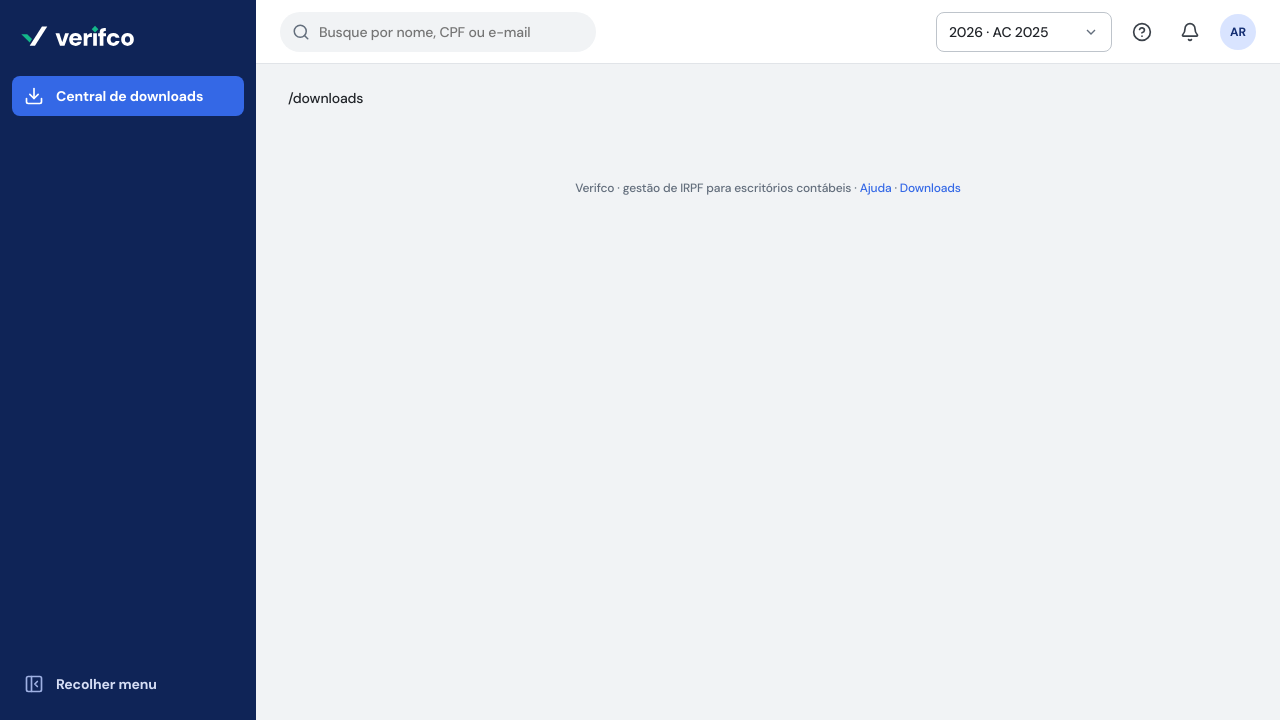
sino de notificações › erro ao carregar não vira "Nenhuma notificação": explica e deixa tentar de novo
The width and height of the screenshot is (1280, 720).
Click the button named "Notificações" at (1190, 32), box [1172,14,1208,50]
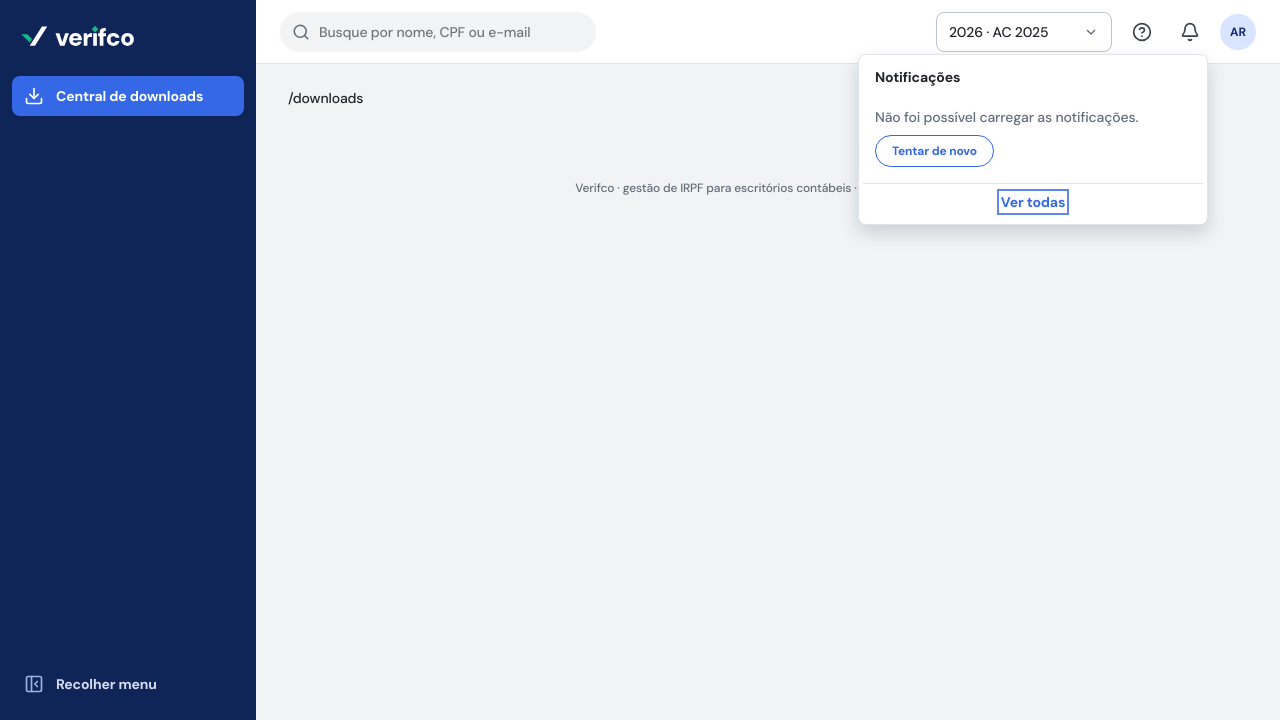
Now the text "Não foi possível carregar as notificações." is shown, box [875,108,1138,126]
Click the button "Tentar de novo" at (934, 150), box [875,134,994,166]
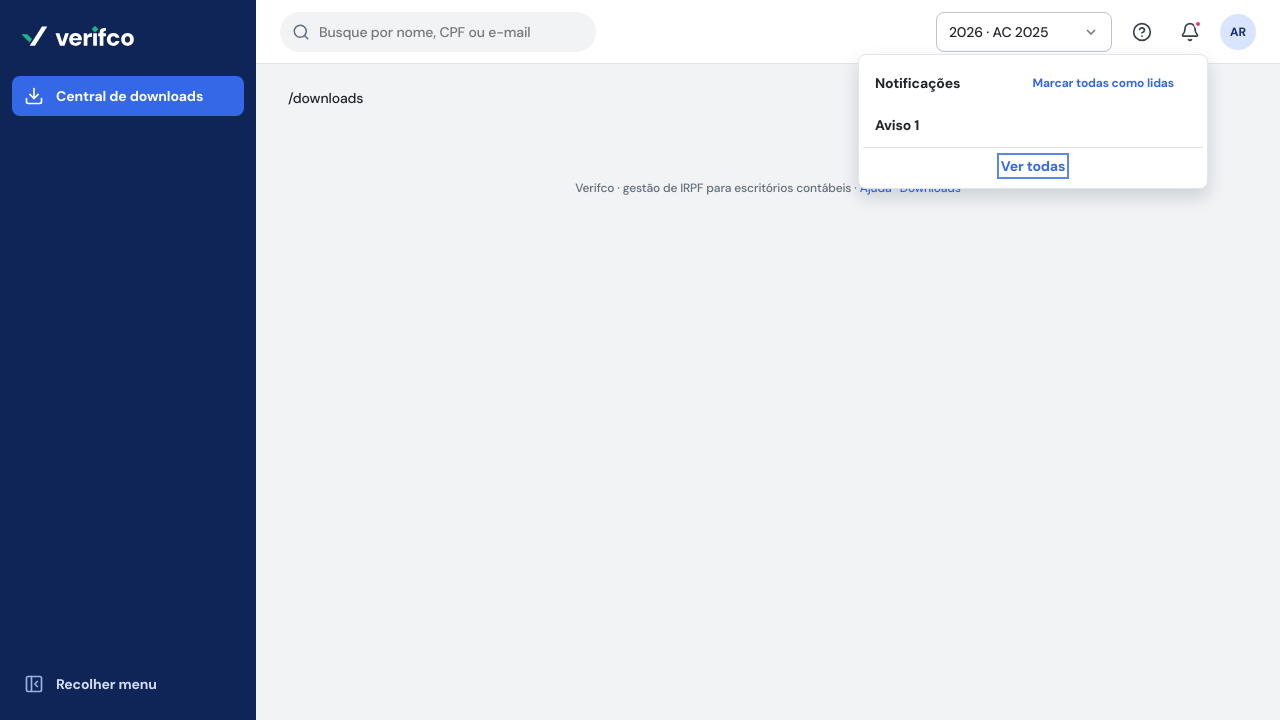
Now the menu item "Aviso 1" is shown, box [863,106,1203,142]
Now the text "Não foi possível carregar as notificações." is gone
